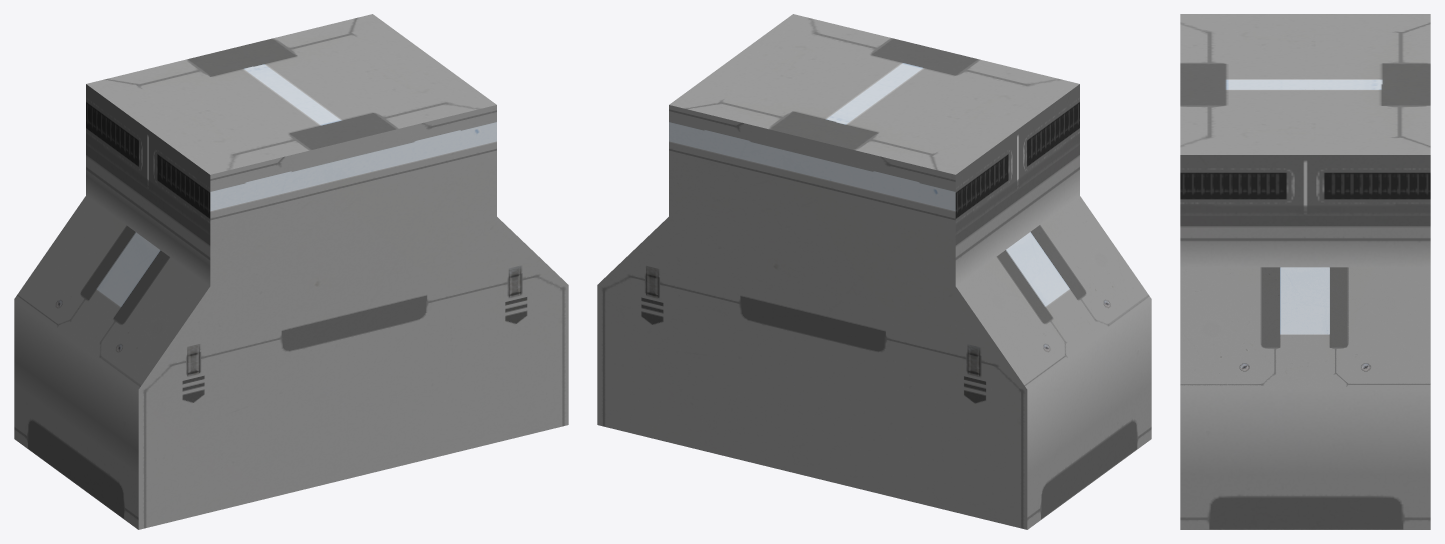
The model's file is SM_ModuGate3_L2b.fbx.
3 views of the same model, side by side, from view 1: azimuth 30°, elevation 25°; view 2: azimuth 150°, elevation 25°; view 3: azimuth 270°, elevation 25° (orthographic).
Visible parts, largest first — view 1: SM_ModuGate3_L2b_LOD0; view 2: SM_ModuGate3_L2b_LOD0; view 3: SM_ModuGate3_L2b_LOD0.
Boxes of the visible parts, x1,y1,x2,y2 form: SM_ModuGate3_L2b_LOD0: (14, 14, 568, 529); SM_ModuGate3_L2b_LOD0: (597, 14, 1151, 529); SM_ModuGate3_L2b_LOD0: (1180, 14, 1430, 529).
Size of the model in its own units: 120 by 60 by 90.
